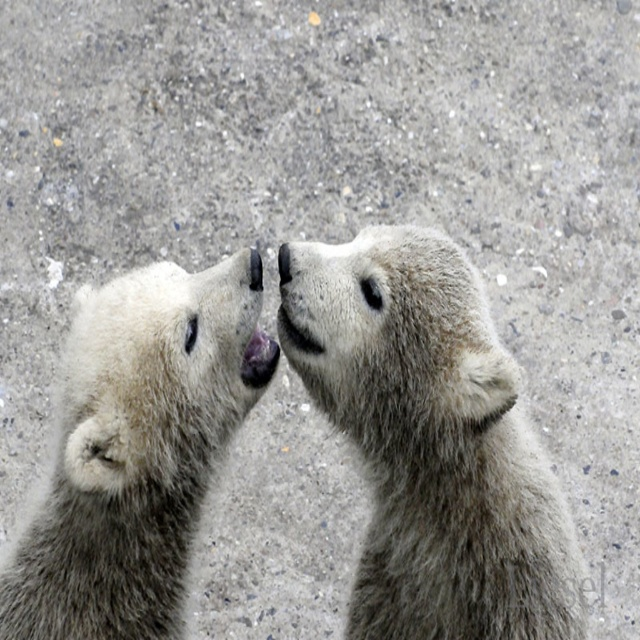Polar bear: (274, 219, 594, 639), (0, 246, 283, 639)
